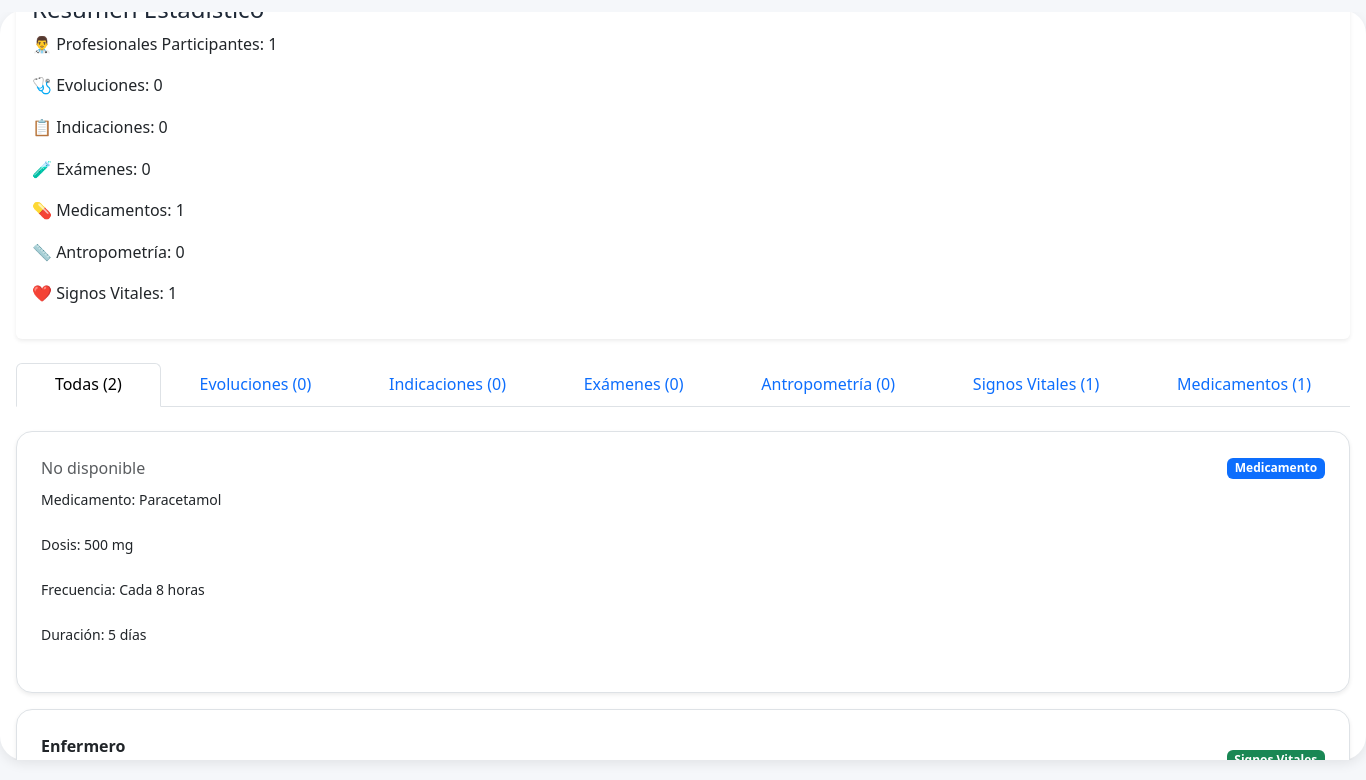
it: ResumenClinico › filtra por medicamentos
(page scrolled)
What coordinates should you click on to do the following:
click the tab "Medicamentos (1)"
I would click on:
 (1244, 385)
Its box is [1138,363,1350,407].
(page scrolled)
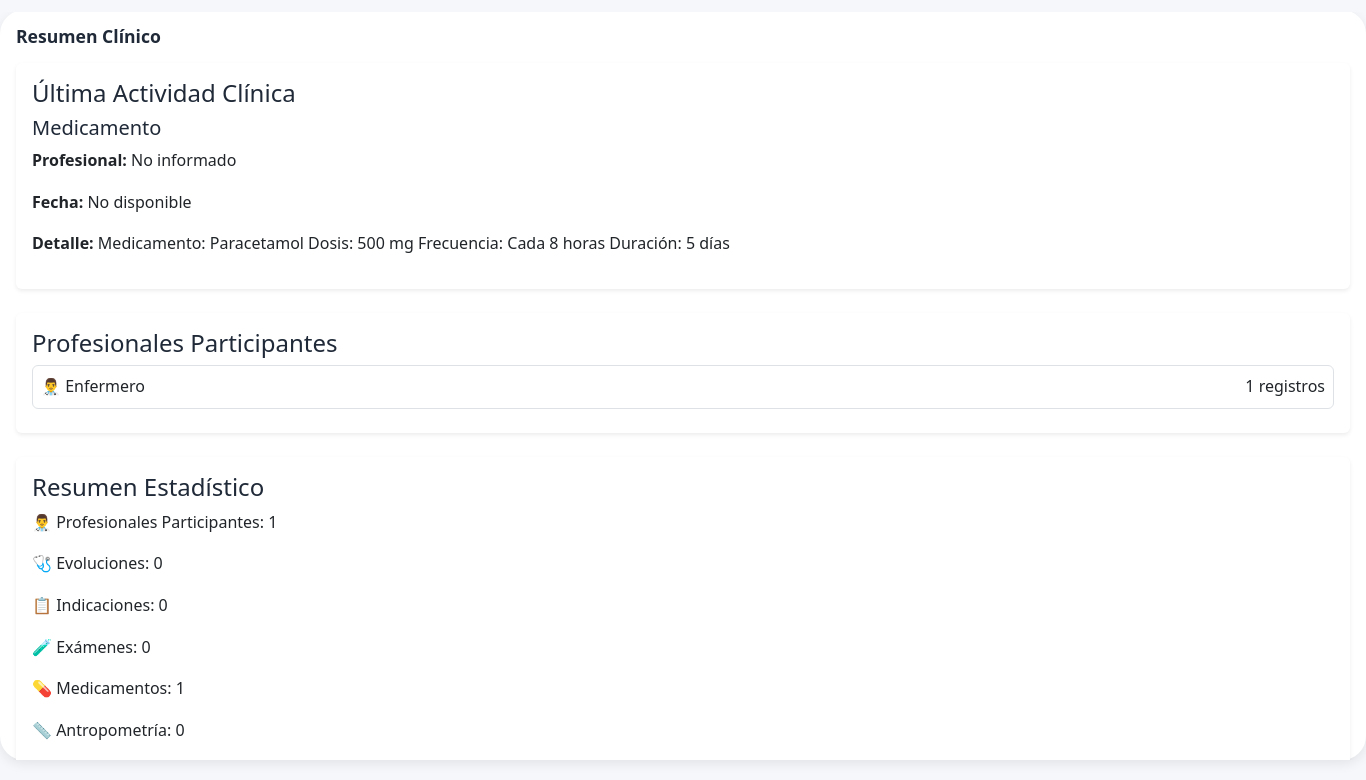
Now the text "Paracetamol" is shown, box [98,232,730,254]
